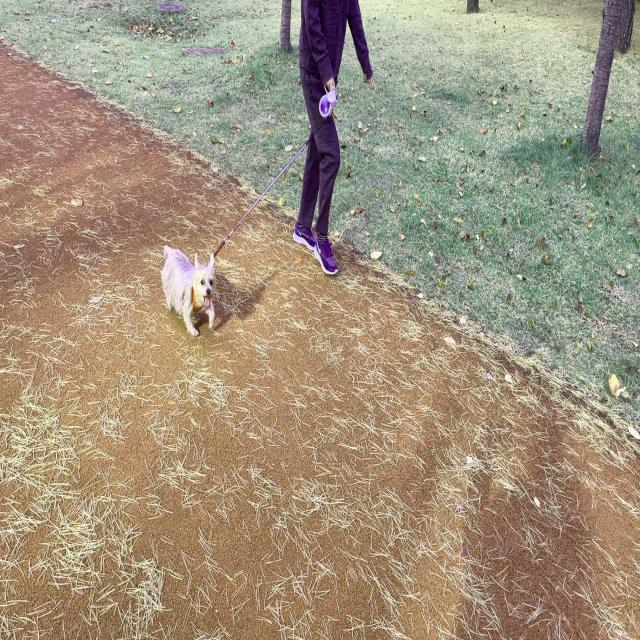Leashed_Dog: (160, 109, 328, 337)
